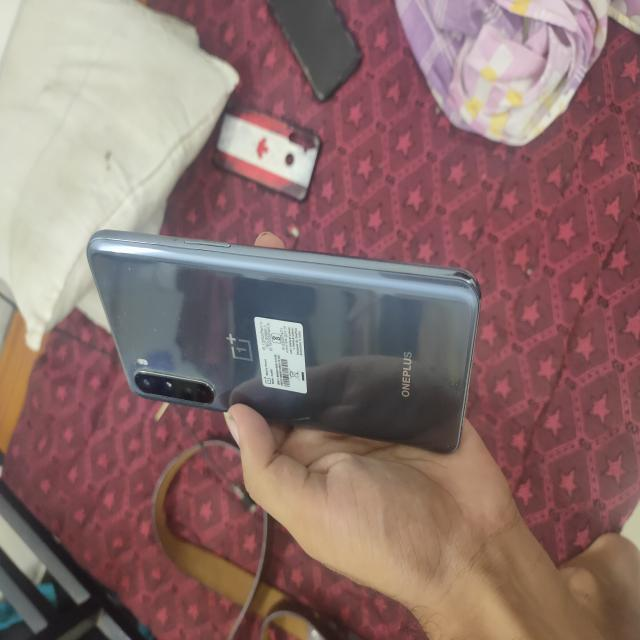Phone: (86, 225, 483, 458), (210, 102, 326, 203), (262, 0, 368, 102)
